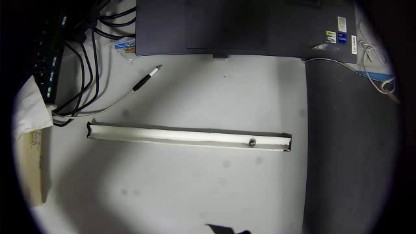gangzhu: (247, 138, 256, 146)
